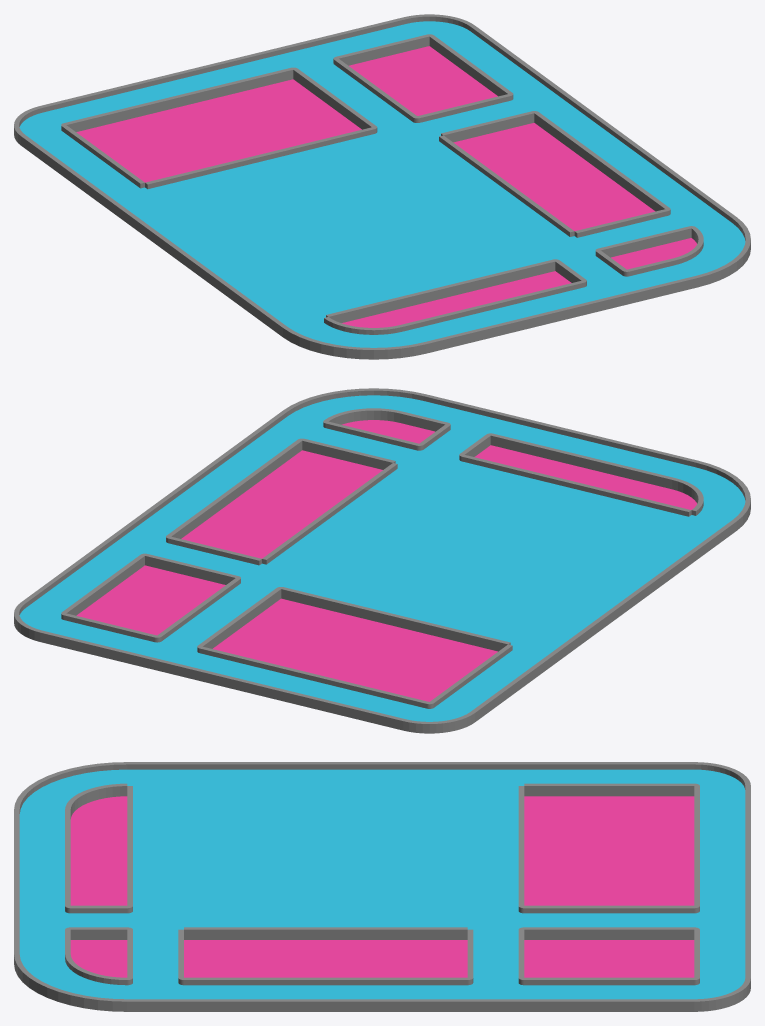
The model's file is e23_WaterCourse.fbx.
The picture shows the model from 3 angles, top to bottom: view 1: azimuth 30°, elevation 25°; view 2: azimuth 150°, elevation 25°; view 3: azimuth 270°, elevation 25°; orthographic projection. The views are drawn at different scales.
Parts seen in each view (by area): view 1: bend_2; view 2: bend_2; view 3: bend_2.
Boxes of the visible parts, bbox=[...] form: bend_2: bbox=[14, 14, 750, 359]; bend_2: bbox=[14, 388, 750, 733]; bend_2: bbox=[14, 762, 750, 1011].
Size of the model in its own units: 10000 by 400 by 13000.
